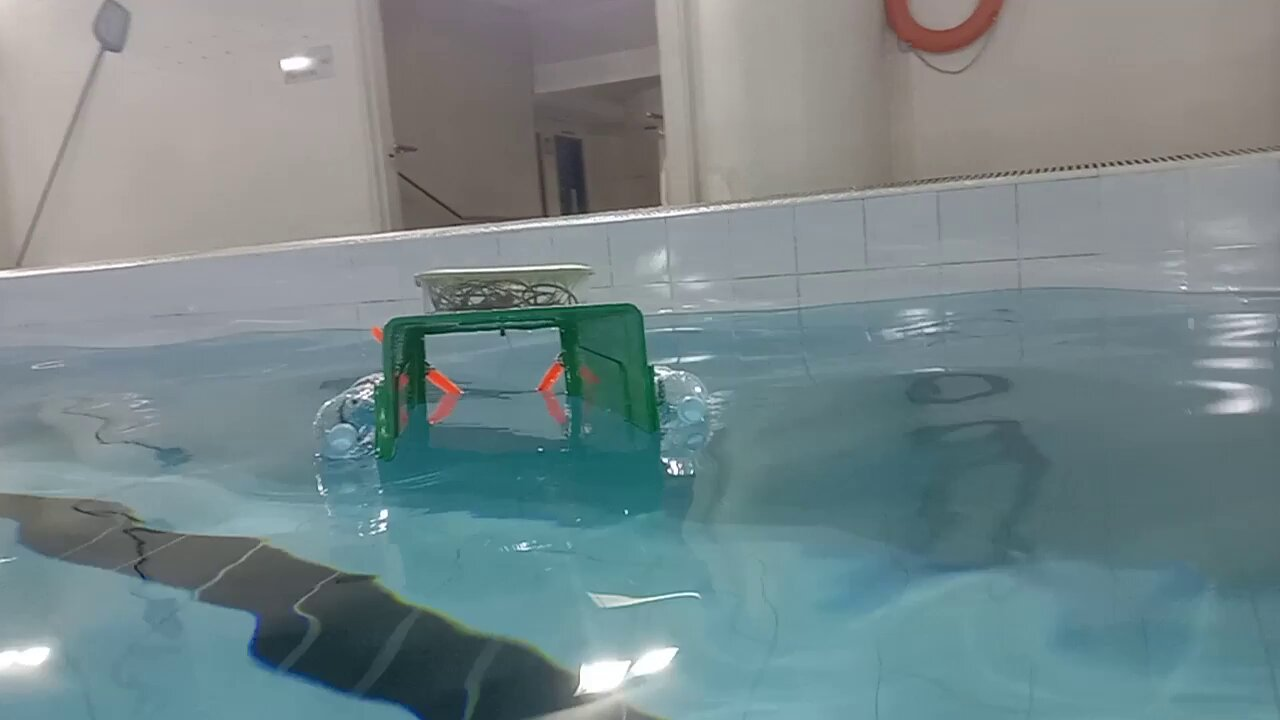drone: (301, 256, 720, 473)
